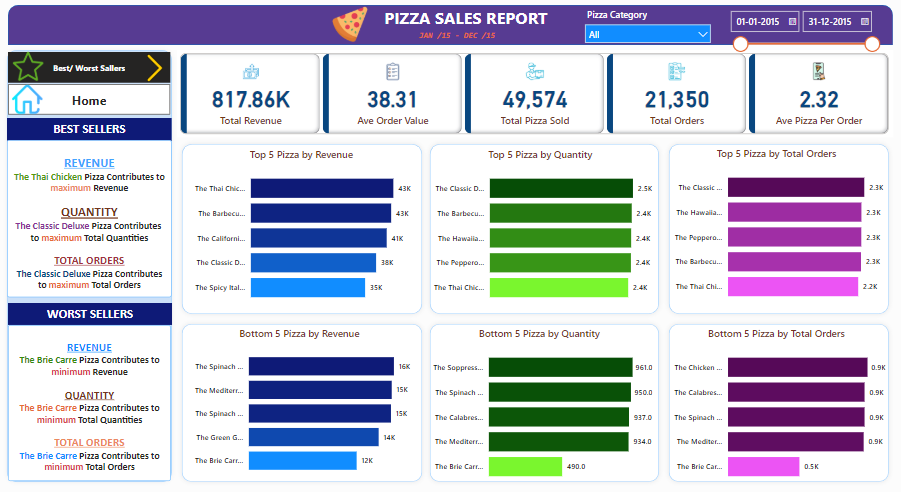

Layout of this report page (visuals, bound fields, positions):
{"tool":"powerbi","page":{"name":"Best/ Worst Sallers","canvas":[1500,820],"ordinal":1},"visuals":[{"type":"shape","box":[16.7,78.3,286.7,725],"z":0},{"type":"textbox","box":[25,198.3,270,36.7],"z":1000},{"type":"cardVisual","fields":{"Data":["pizza_sales.Total Revenue","pizza_sales.Ave Order Value","pizza_sales.Total Pizza Sold","pizza_sales.Total Orders","pizza_sales.Ave Pizza Per Order"]},"box":[303.3,86.7,1175,143.3],"z":2000},{"type":"shape","box":[26.2,13.1,1451.4,65.6],"z":3000},{"type":"textbox","box":[623.8,10,300,48.8],"z":4000},{"type":"textbox","box":[695,48.3,143.3,30],"z":5000},{"type":"image","box":[551.4,10,72.9,70],"z":6000},{"type":"shape","box":[303.3,233.3,410,295],"z":7000},{"type":"textbox","box":[25,235,270,258.3],"z":8000},{"type":"textbox","box":[25.7,538.6,267.1,255.7],"z":9000},{"type":"textbox","box":[25.7,501.4,268.6,35.7],"z":10000},{"type":"slicer","fields":{"Values":["pizza_sales.pizza_category"]},"box":[962.7,13.1,226.3,62.3],"z":11000},{"type":"slicer","fields":{"Values":["pizza_sales.order_date"]},"box":[1198.8,13.1,265.7,83.6],"z":12000},{"type":"shape","box":[710,233.3,391.7,295],"z":13000},{"type":"shape","box":[1101.7,233.3,376.7,295],"z":14000},{"type":"shape","box":[303.3,528.3,410,275],"z":15000},{"type":"shape","box":[710,528.3,391.7,275],"z":16000},{"type":"shape","box":[1101.7,528.3,376.7,275],"z":17000},{"type":"barChart","title":"Top 5 Pizza by Revenue","fields":{"Category":["pizza_sales.pizza_name"],"Y":["pizza_sales.Total Revenue"]},"box":[315.7,247.1,381.4,267.1],"z":18000},{"type":"barChart","title":"Bottom 5 Pizza by Revenue","fields":{"Category":["pizza_sales.pizza_name"],"Y":["pizza_sales.Total Revenue"]},"box":[312.9,541.4,381.4,255.7],"z":19000},{"type":"barChart","title":"Top 5 Pizza by Quantity","fields":{"Category":["pizza_sales.pizza_name"],"Y":["pizza_sales.Total Pizza Sold"]},"box":[708.6,247.1,381.4,267.1],"z":20000},{"type":"barChart","title":"Bottom 5 Pizza by Quantity","fields":{"Category":["pizza_sales.pizza_name"],"Y":["pizza_sales.Total Pizza Sold"]},"box":[707.1,541.4,381.4,267.1],"z":21000},{"type":"barChart","title":"Top 5 Pizza by Total Orders","fields":{"Category":["pizza_sales.pizza_name"],"Y":["pizza_sales.Total Orders"]},"box":[1101.4,245.7,368.6,267.1],"z":22000},{"type":"barChart","title":"Bottom 5 Pizza by Total Orders","fields":{"Category":["pizza_sales.pizza_name"],"Y":["pizza_sales.Total Orders"]},"box":[1101.4,541.4,368.6,267.1],"z":23000},{"type":"pageNavigator","box":[26.7,90,266.7,50],"z":24000},{"type":"pageNavigator","box":[26.7,143.3,266.7,50],"z":25000},{"type":"image","box":[240,86.7,55,58.3],"z":26000},{"type":"image","box":[28.3,138.3,60,60],"z":27000},{"type":"image","box":[26.7,83.3,66.7,60],"z":28000}]}

Visuals, with their boxes in screenshot pixels (x1, y1, x2, y2), scaled from the page's 1500x820 canvas onto the 901x492 screenshot:
shape: (10, 47, 182, 482)
textbox: (15, 119, 177, 141)
cardVisual - pizza_sales.Total Revenue x pizza_sales.Ave Order Value: (182, 52, 888, 138)
shape: (16, 8, 888, 47)
textbox: (375, 6, 555, 35)
textbox: (417, 29, 504, 47)
image: (331, 6, 375, 48)
shape: (182, 140, 428, 317)
textbox: (15, 141, 177, 296)
textbox: (15, 323, 176, 477)
textbox: (15, 301, 177, 322)
slicer - pizza_sales.pizza_category: (578, 8, 714, 45)
slicer - pizza_sales.order_date: (720, 8, 880, 58)
shape: (426, 140, 662, 317)
shape: (662, 140, 888, 317)
shape: (182, 317, 428, 482)
shape: (426, 317, 662, 482)
shape: (662, 317, 888, 482)
"Top 5 Pizza by Revenue" barChart: (190, 148, 419, 309)
"Bottom 5 Pizza by Revenue" barChart: (188, 325, 417, 478)
"Top 5 Pizza by Quantity" barChart: (426, 148, 655, 309)
"Bottom 5 Pizza by Quantity" barChart: (425, 325, 654, 485)
"Top 5 Pizza by Total Orders" barChart: (662, 147, 883, 308)
"Bottom 5 Pizza by Total Orders" barChart: (662, 325, 883, 485)
pageNavigator: (16, 54, 176, 84)
pageNavigator: (16, 86, 176, 116)
image: (144, 52, 177, 87)
image: (17, 83, 53, 119)
image: (16, 50, 56, 86)
